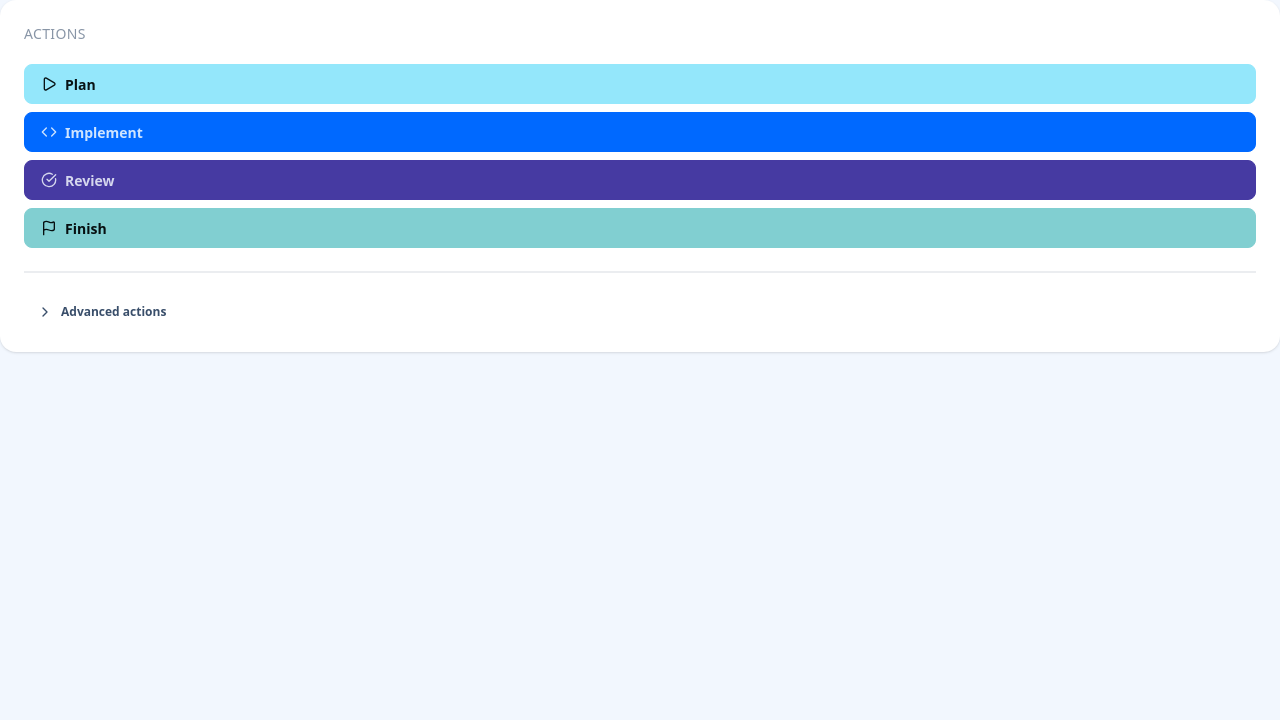
Scenario: WorkflowActions › shows sync result when sync succeeds
Click the button "Advanced actions" at [114, 312], box 24,296 -> 1256,328
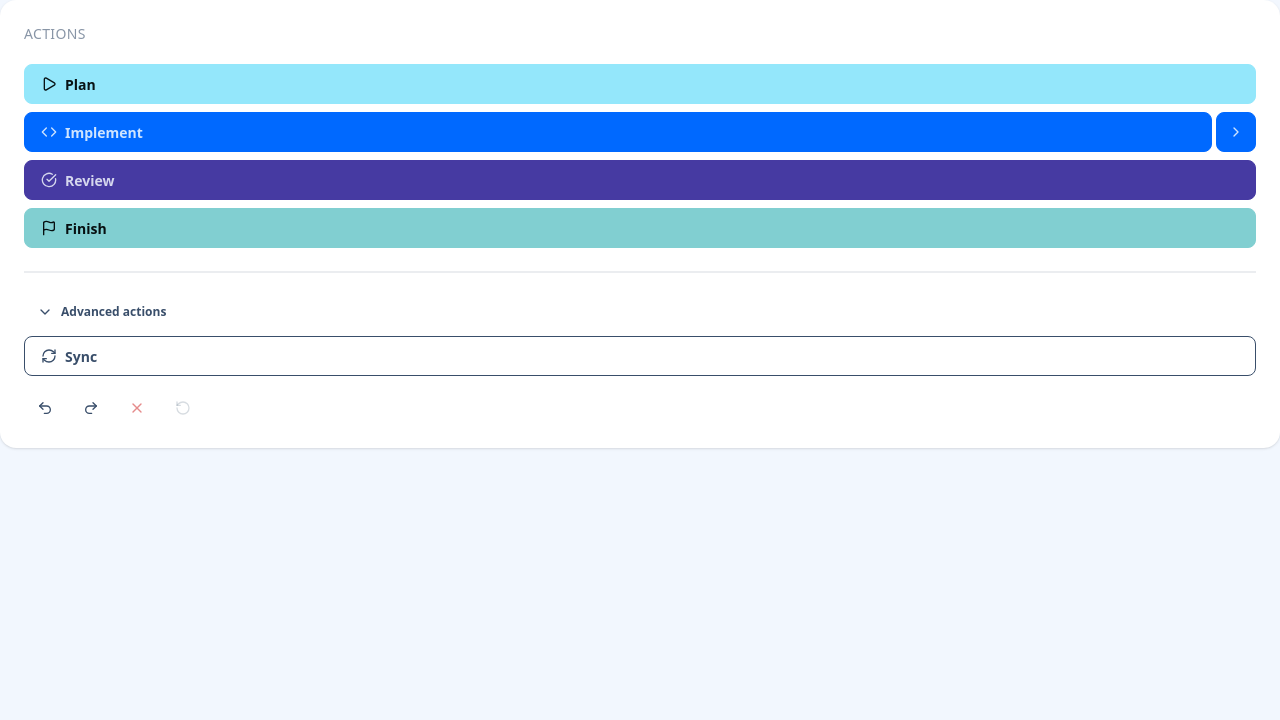
Click the button "Sync" at [81, 356], box 24,336 -> 1256,376
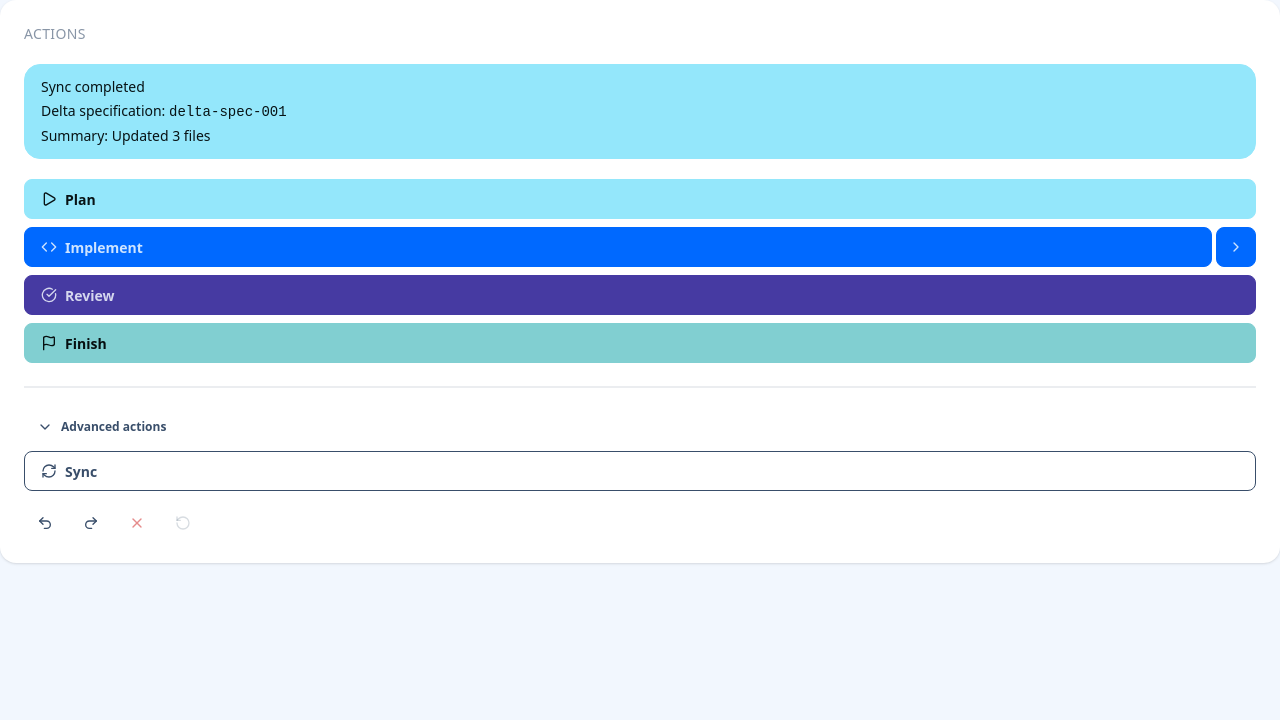
Check: the text "Sync completed" is shown, box 41,77 -> 145,96
Check: the text "delta-spec-001" is shown, box 169,104 -> 287,120
